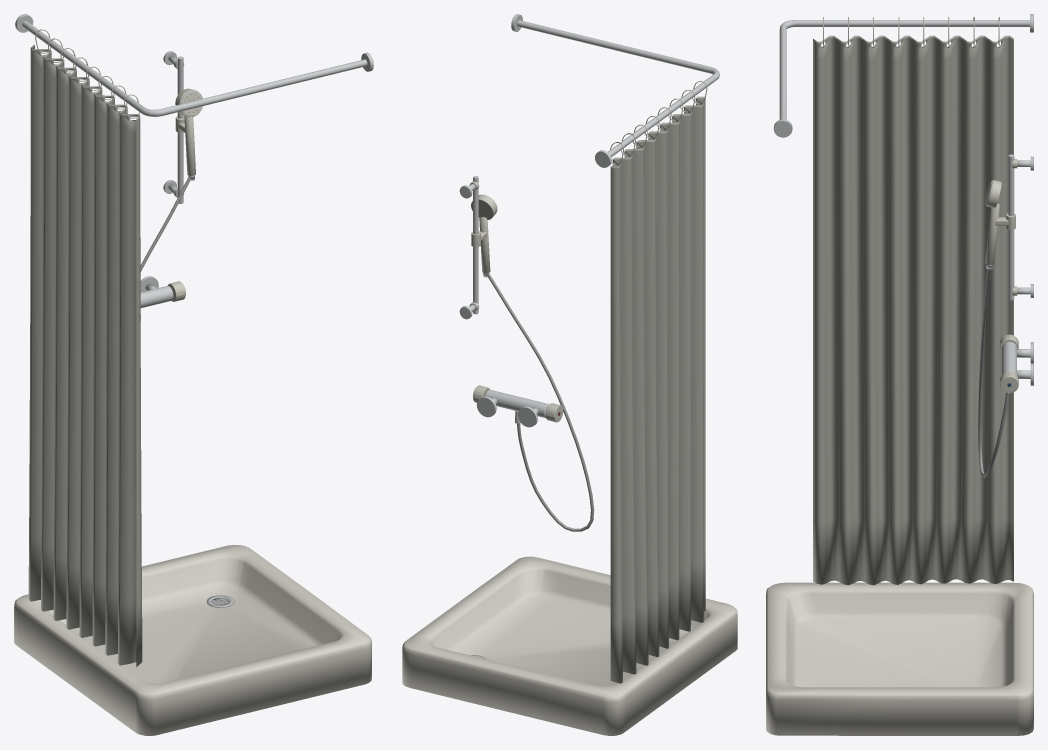
File: BathroomShower_LOD0.fbx
3 renders of one model, left to right at view 1: azimuth 30°, elevation 25°; view 2: azimuth 150°, elevation 25°; view 3: azimuth 270°, elevation 25°, orthographic. The views are drawn at different scales.
Parts seen in each view (by area): view 1: Body_LOD0; view 2: Body_LOD0; view 3: Body_LOD0.
Boxes of the visible parts, x1,y1,x2,y2 form: Body_LOD0: (14, 14, 373, 735); Body_LOD0: (402, 14, 737, 735); Body_LOD0: (766, 14, 1033, 735).
Bounding box in the file's own units: 0.8 × 2.03 × 0.8.
